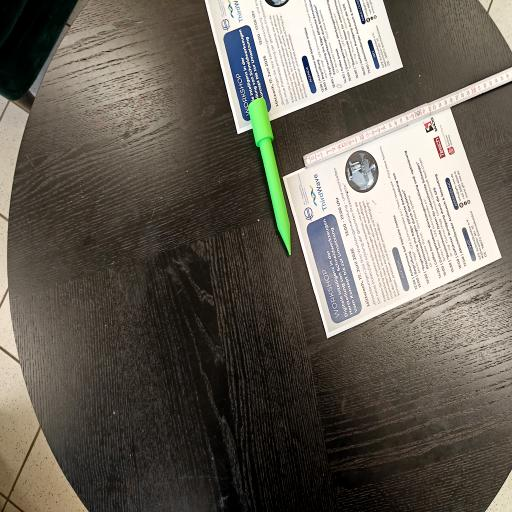Probe-Detection: (248, 97, 291, 255)
